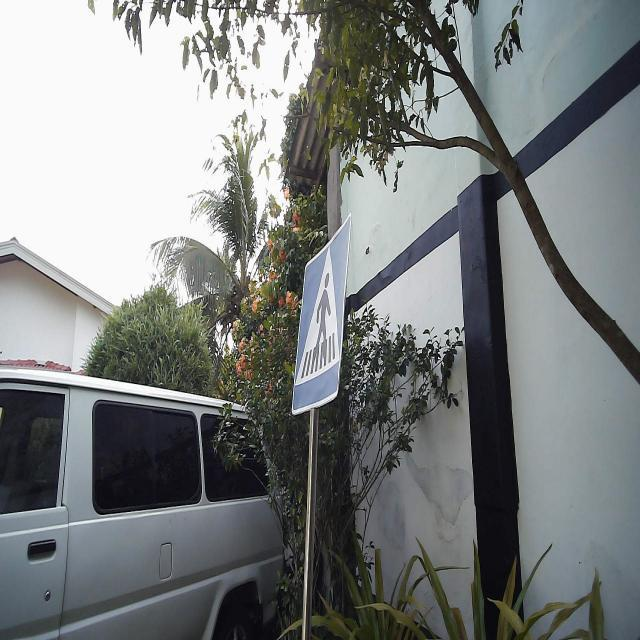crosswalk_sign: (290, 210, 354, 418)
